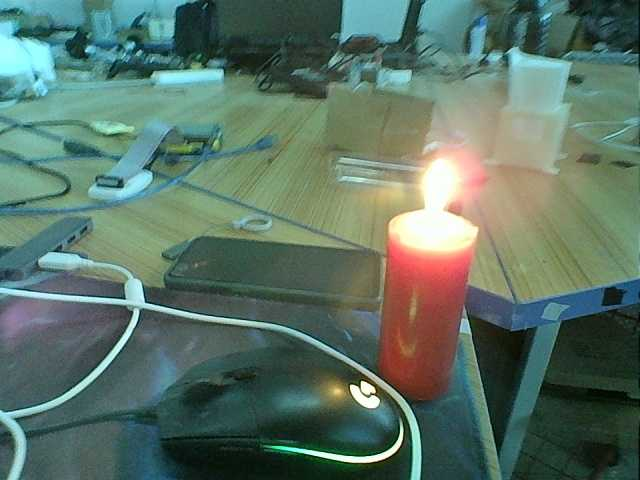candle: (377, 207, 478, 409)
fire: (405, 150, 463, 231)
